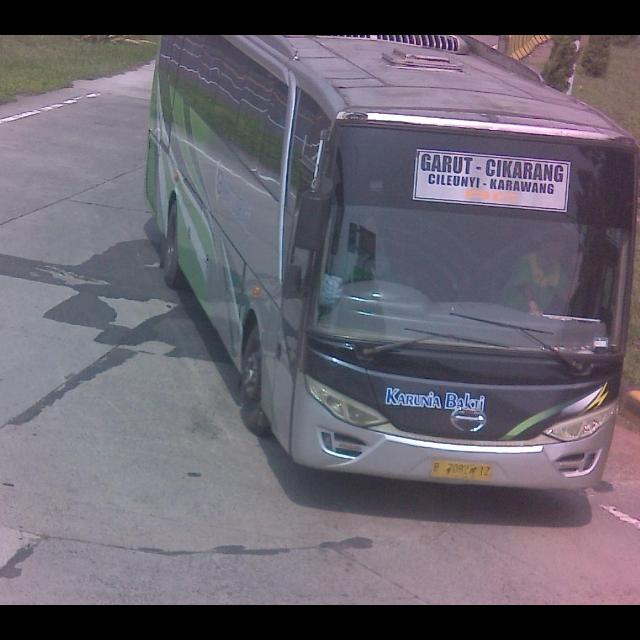plate: (432, 456, 496, 481)
